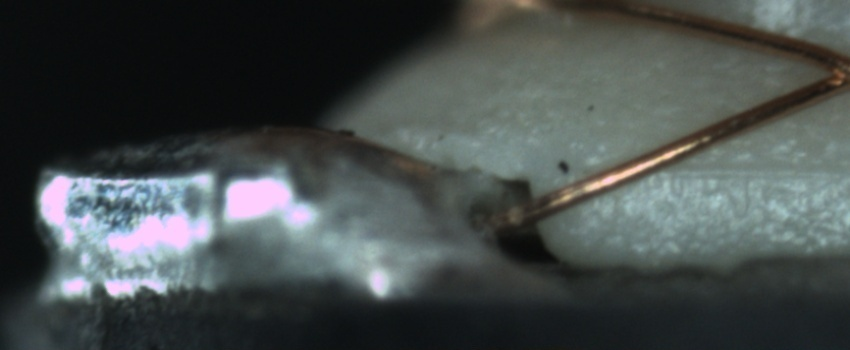CL: (799, 41, 850, 100)
DL: (631, 133, 850, 203)
